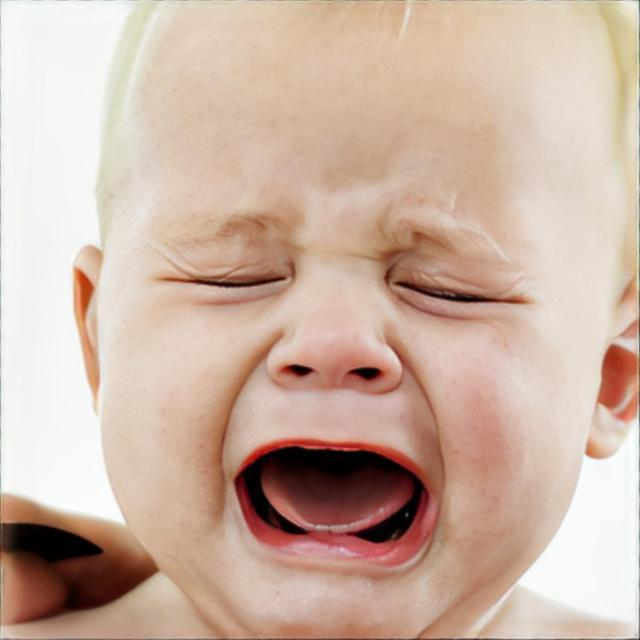sad: (99, 0, 621, 640)
